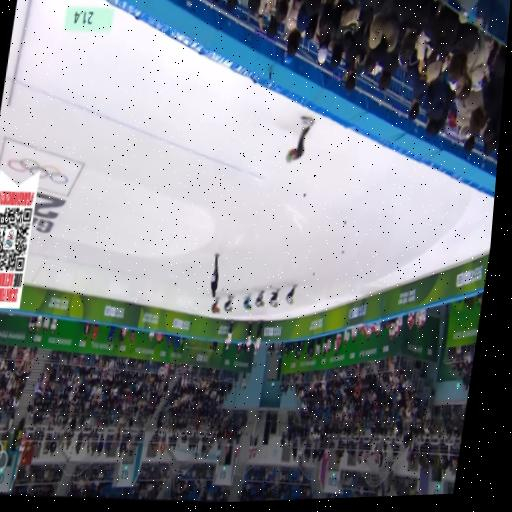Skater: (285, 117, 313, 162), (284, 282, 299, 307), (268, 285, 283, 310), (240, 291, 254, 314), (254, 288, 267, 309), (223, 293, 236, 314), (210, 295, 222, 316)
